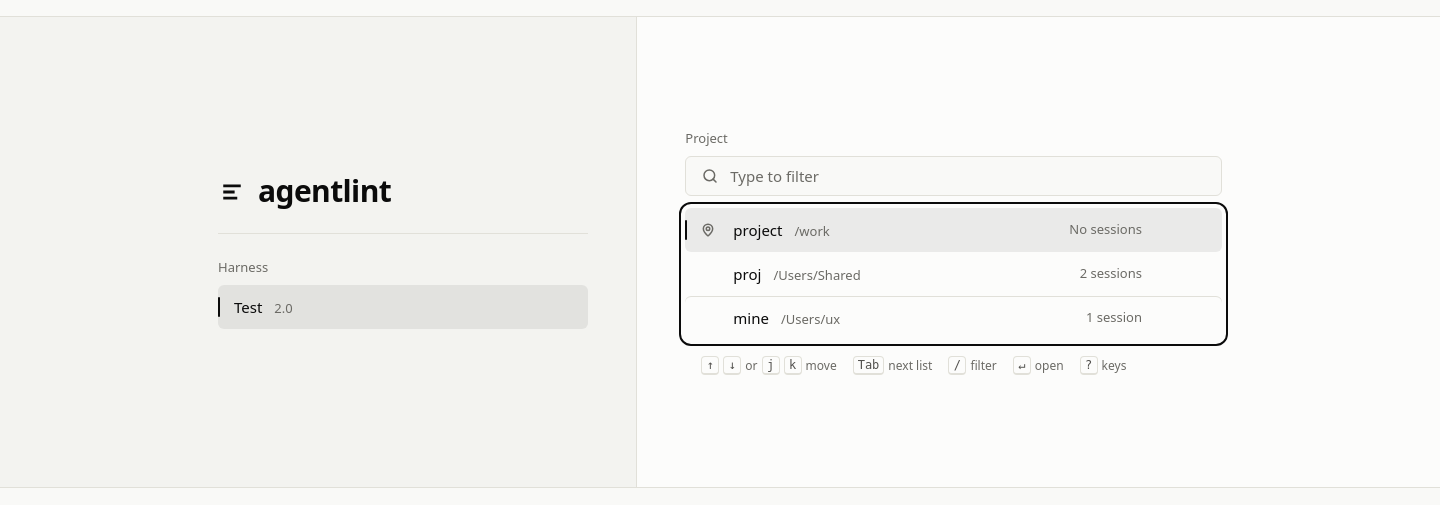
Test case: the home › writes ~ only for the user's home directory: /Users/Shared and another user's directory stay whole
In the field with placeholder "Type to filter": point(968, 176) [730,165,1205,188], type "~/"
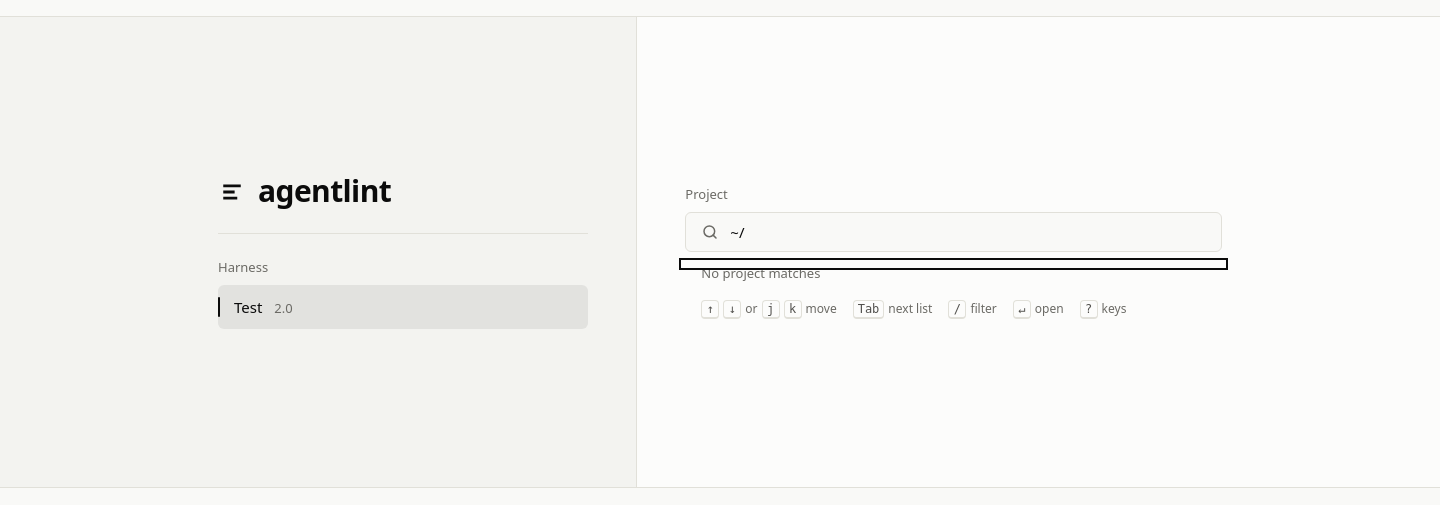
Expected: no the option "project/work No sessions" are shown
